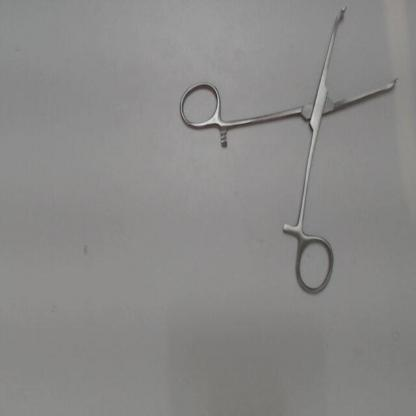Allis Tissue Forceps: (172, 1, 408, 302)
